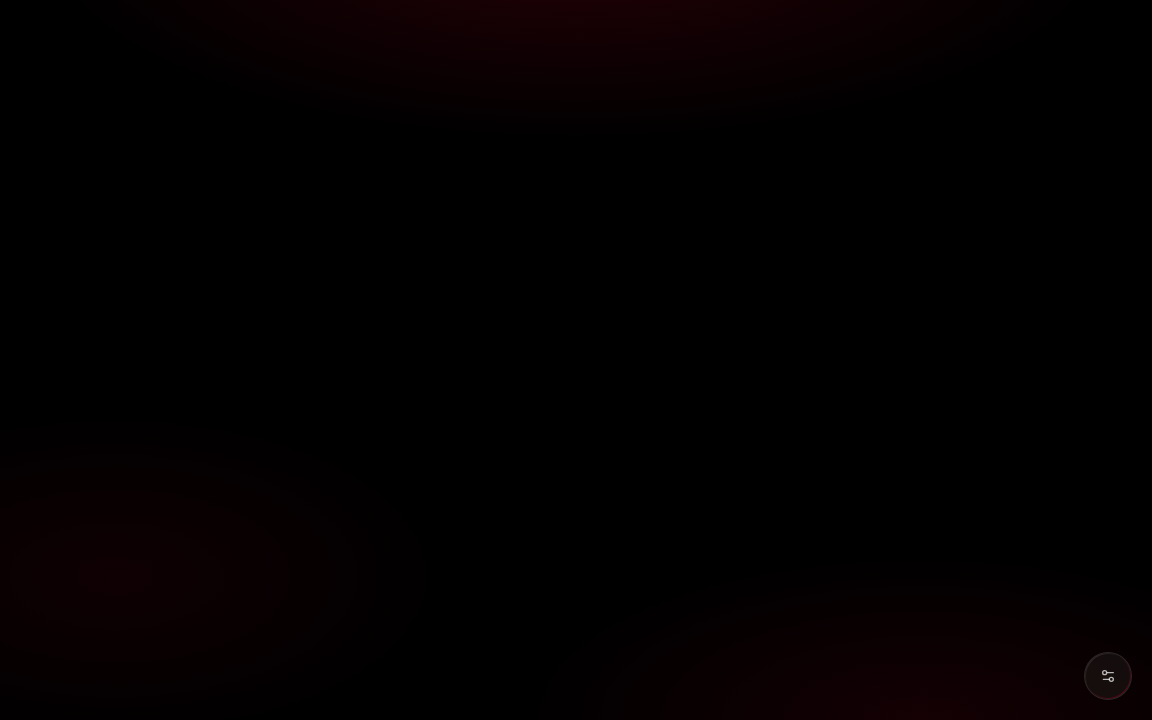
Test: AccessibilityPanel › los interruptores anuncian su estado con aria-pressed
Click the button named "abrir panel de accesibilidad".
click(1108, 676)  # box [1084,652,1132,700]
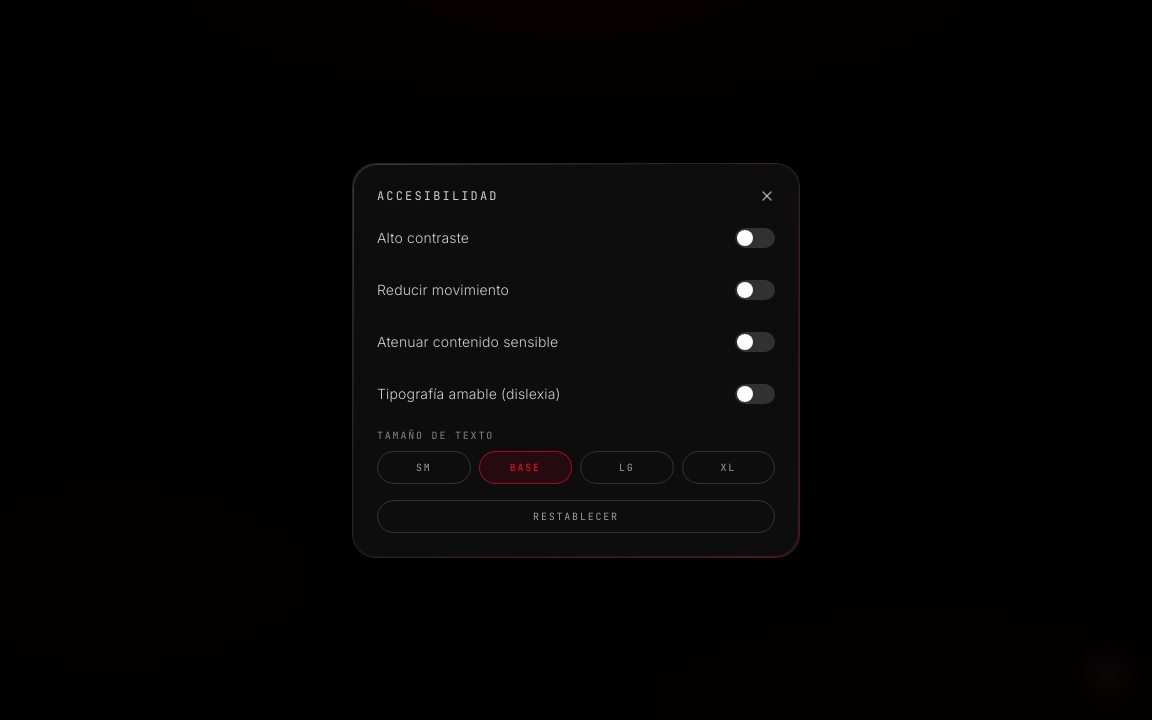
Click the button "Alto contraste".
click(423, 237)  # box [377,220,775,256]
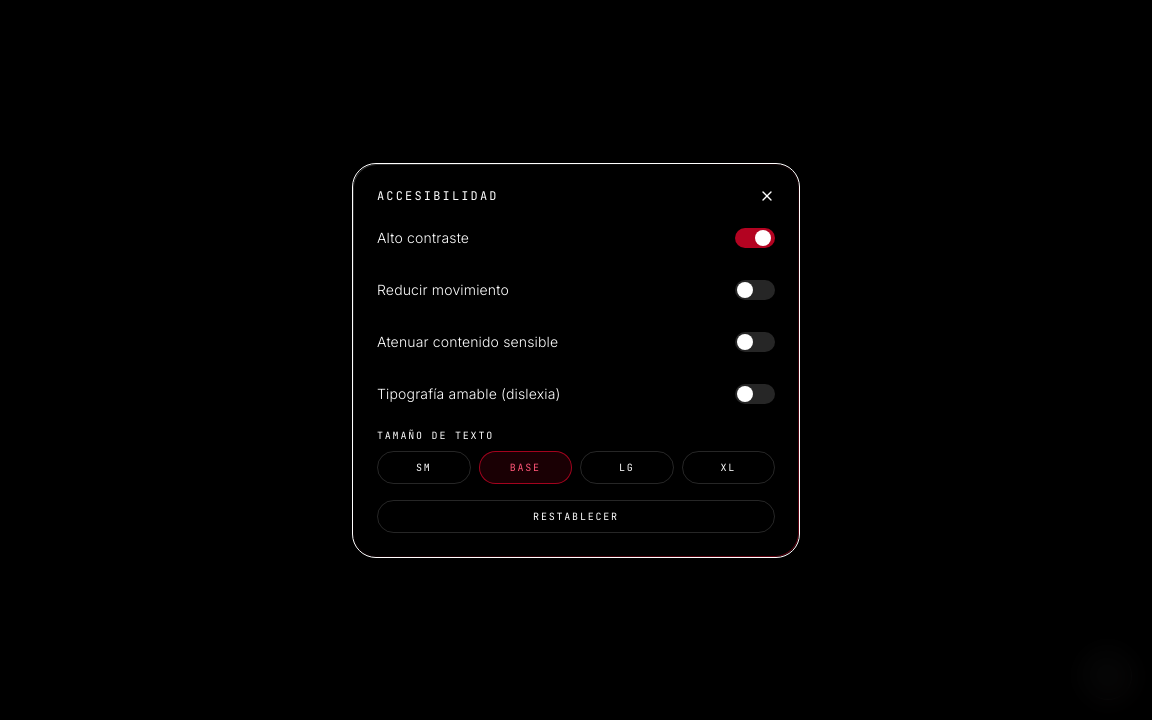
Check: the button "Alto contraste" is pressed, box [377,220,775,256]
